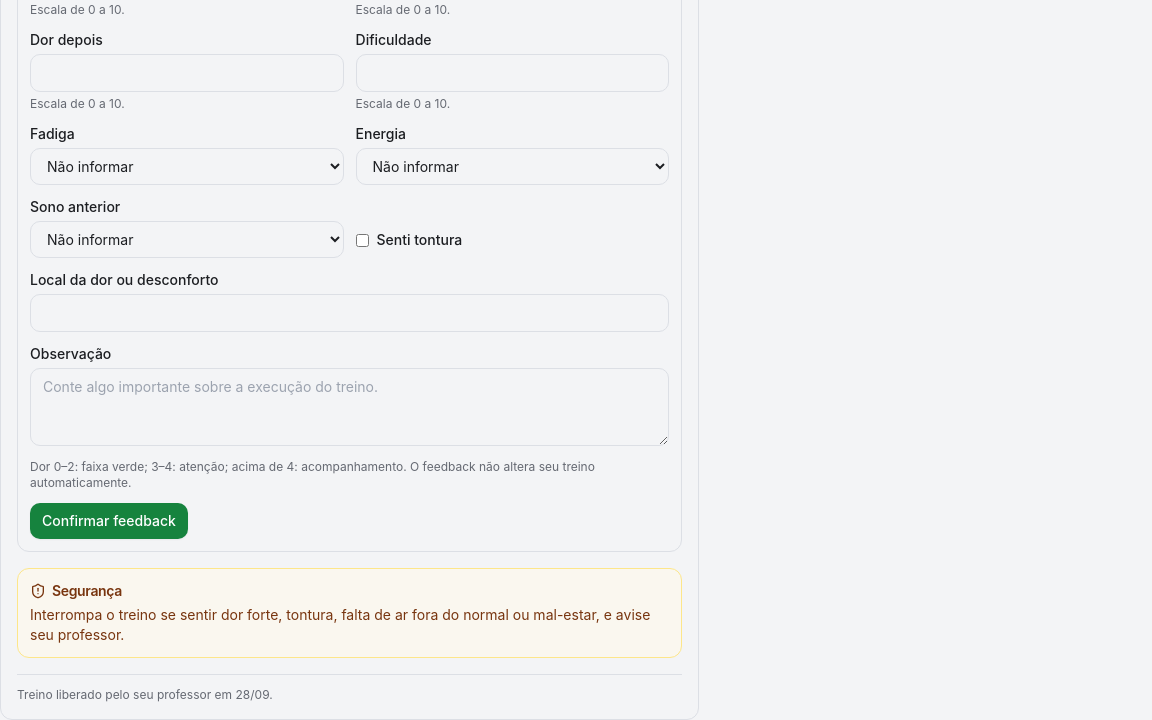
Test: TrainingRoutinePanel (#387) › atualiza a continuidade ao confirmar feedback sem recarregar a página inteira
(page scrolled)
Click the button "Confirmar feedback": (109, 521) x1=30 y1=503 x2=188 y2=539
(page scrolled)
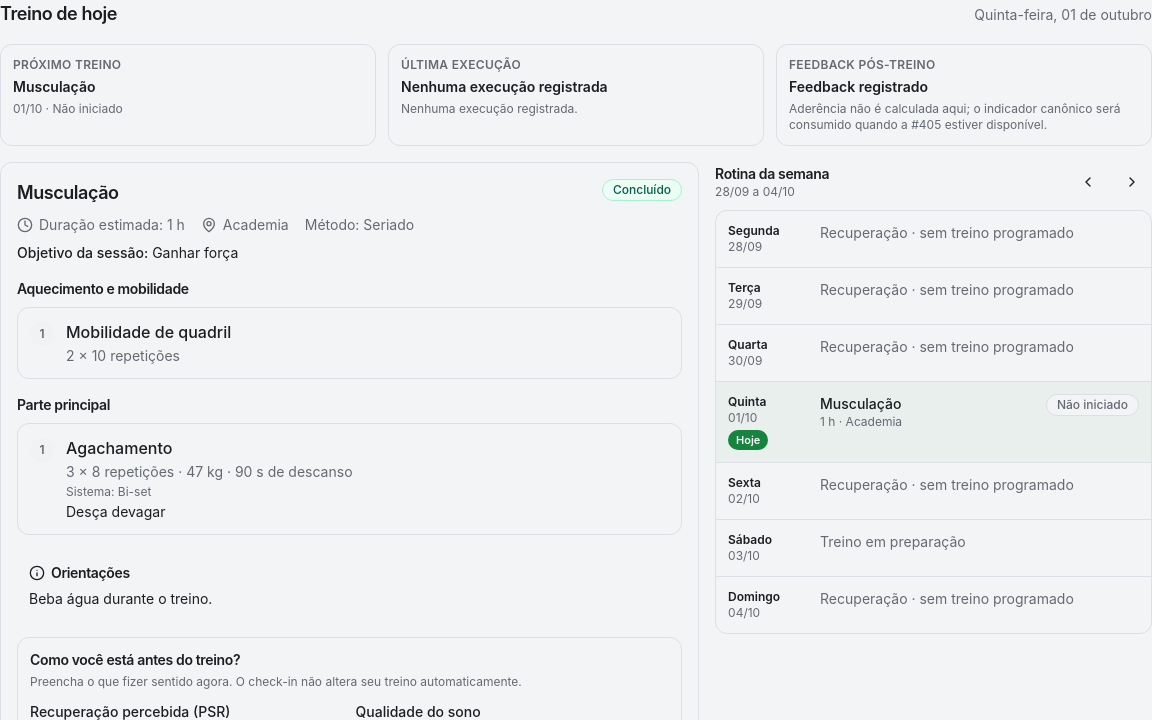
Result: the text "Feedback registrado" is shown at x1=789 y1=78 x2=928 y2=95
